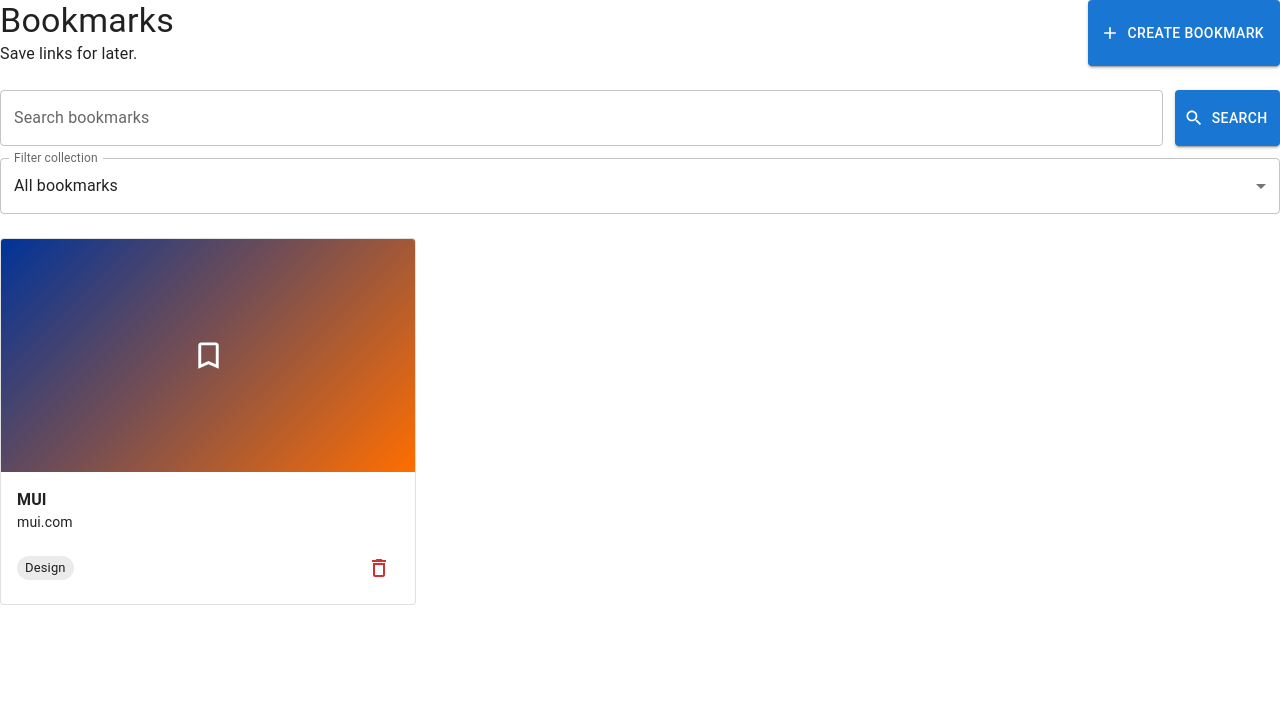
Test case: keeps the bookmark and shows a safe error when deletion fails
Click the button named "Delete bookmark" at {"x": 379, "y": 568}, box [359, 548, 399, 588]
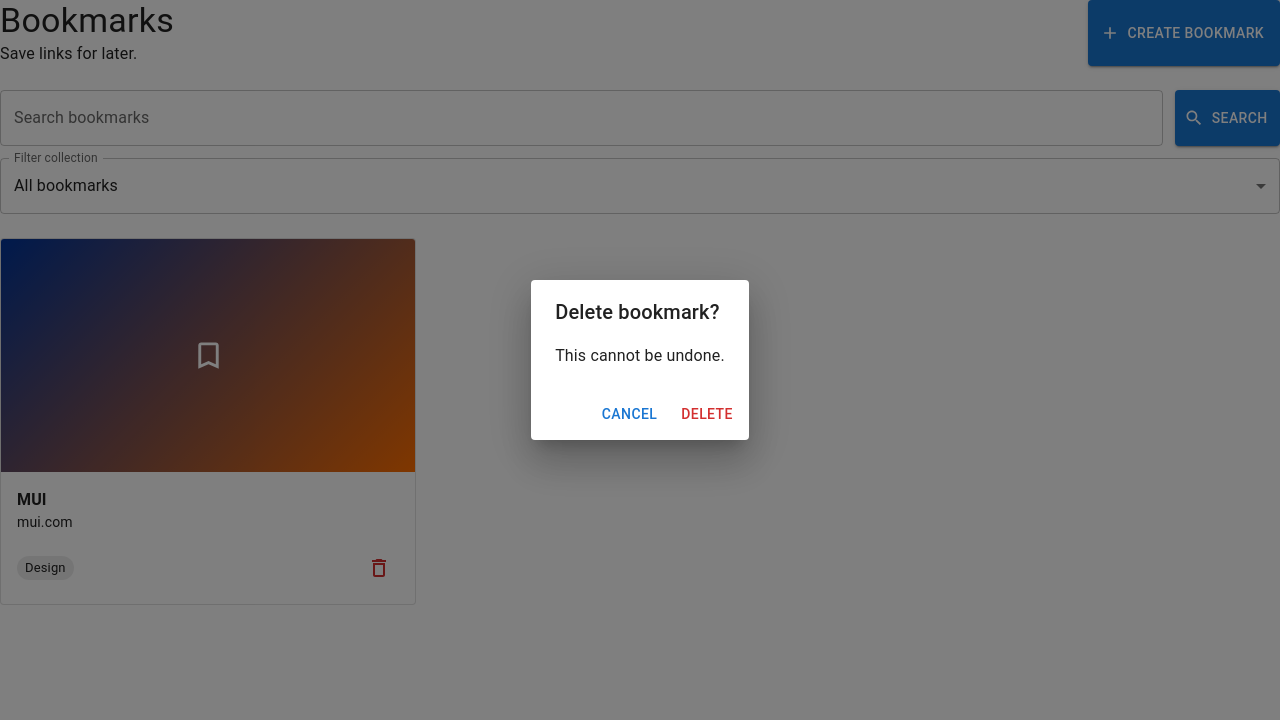
Click the button "Delete" at {"x": 707, "y": 414}, box [673, 396, 741, 432]
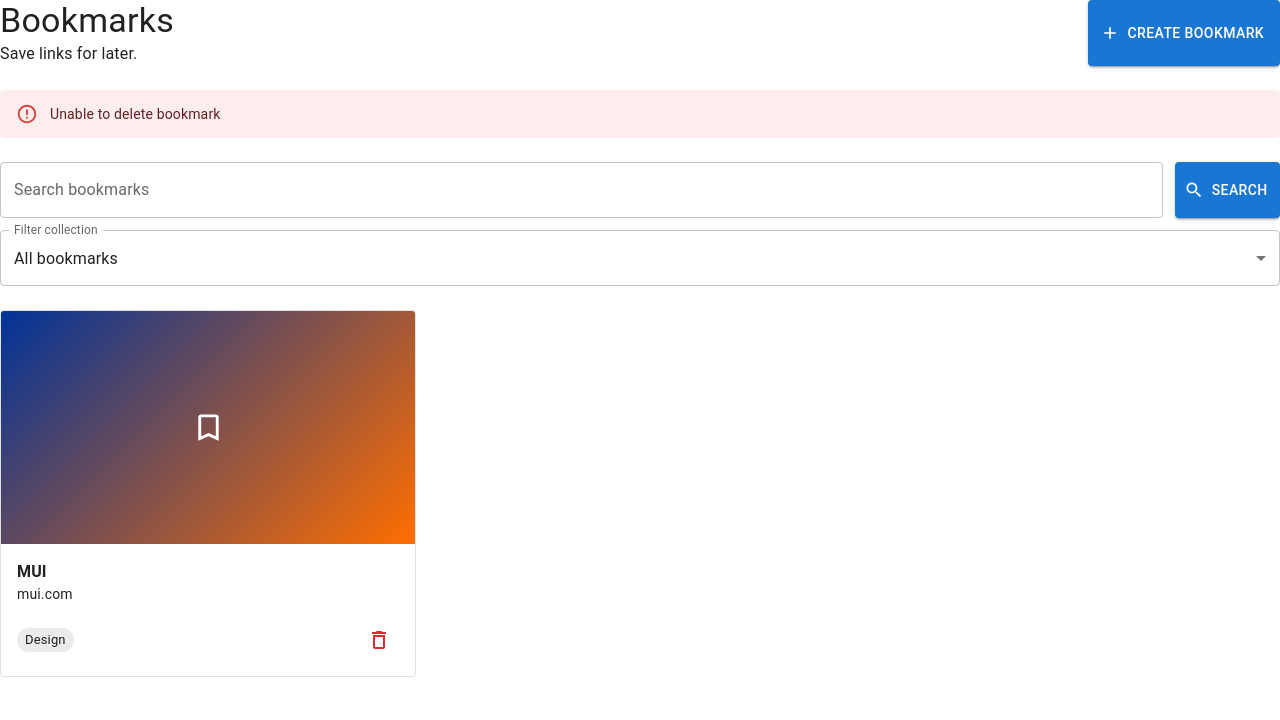
expect the link "MUI mui.com" is shown: met, box [1, 311, 415, 620]
expect the message reads "Unable to delete bookmark": met, box [50, 106, 220, 122]
